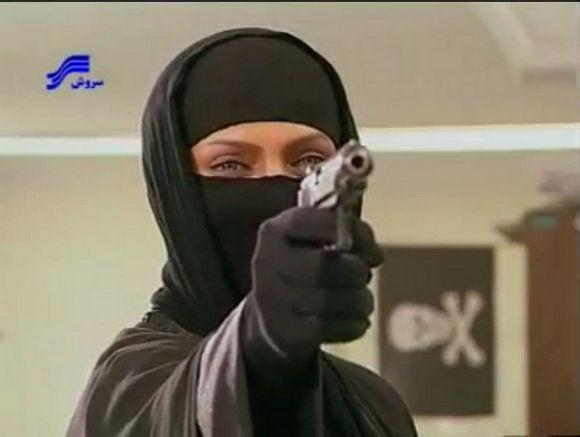OK: (194, 131, 365, 302)
